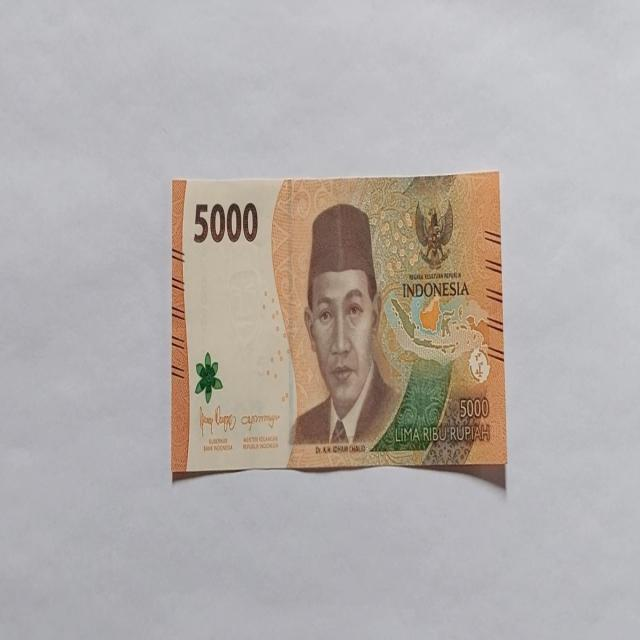lima ribu rupiah: (171, 172, 506, 481), (286, 202, 402, 452)
